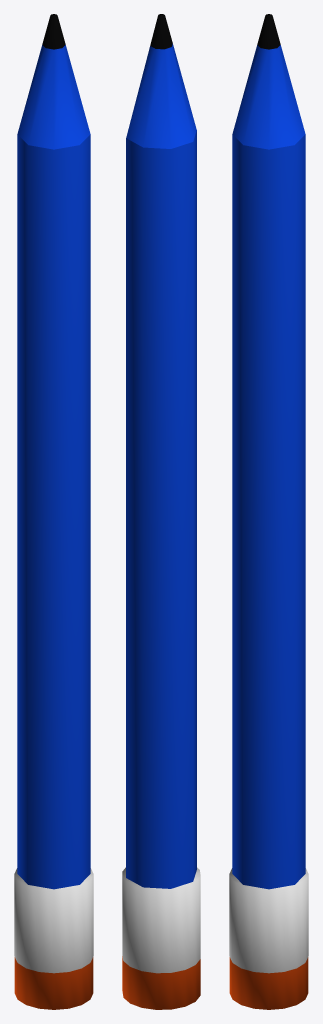
Rendered from pencil.fbx.
The picture shows the model from 3 angles, left to right: view 1: azimuth 90°, elevation 25°; view 2: azimuth 150°, elevation 25°; view 3: azimuth 270°, elevation 25°; orthographic projection.
Parts seen in each view (by area): view 1: Cylinder, Cylinder.002; view 2: Cylinder, Cylinder.002; view 3: Cylinder, Cylinder.002.
Boxes of the visible parts, bbox=[...] form: Cylinder: bbox=[17, 14, 90, 889]; Cylinder.002: bbox=[14, 868, 93, 1009]; Cylinder: bbox=[126, 14, 196, 888]; Cylinder.002: bbox=[122, 867, 200, 1009]; Cylinder: bbox=[232, 14, 305, 889]; Cylinder.002: bbox=[229, 868, 308, 1009].
Size of the model in its own units: 130 by 1769 by 130.
